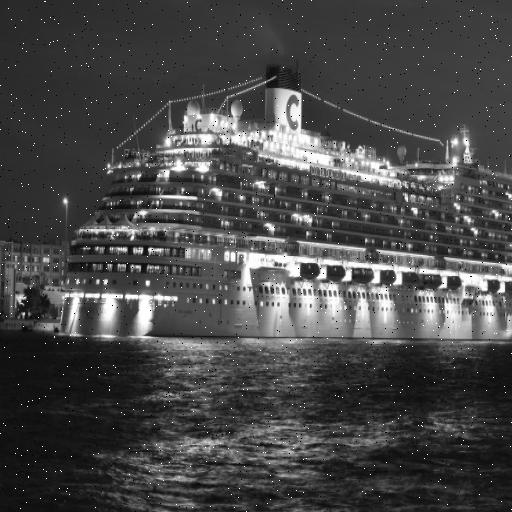cruises: (48, 60, 512, 357)
